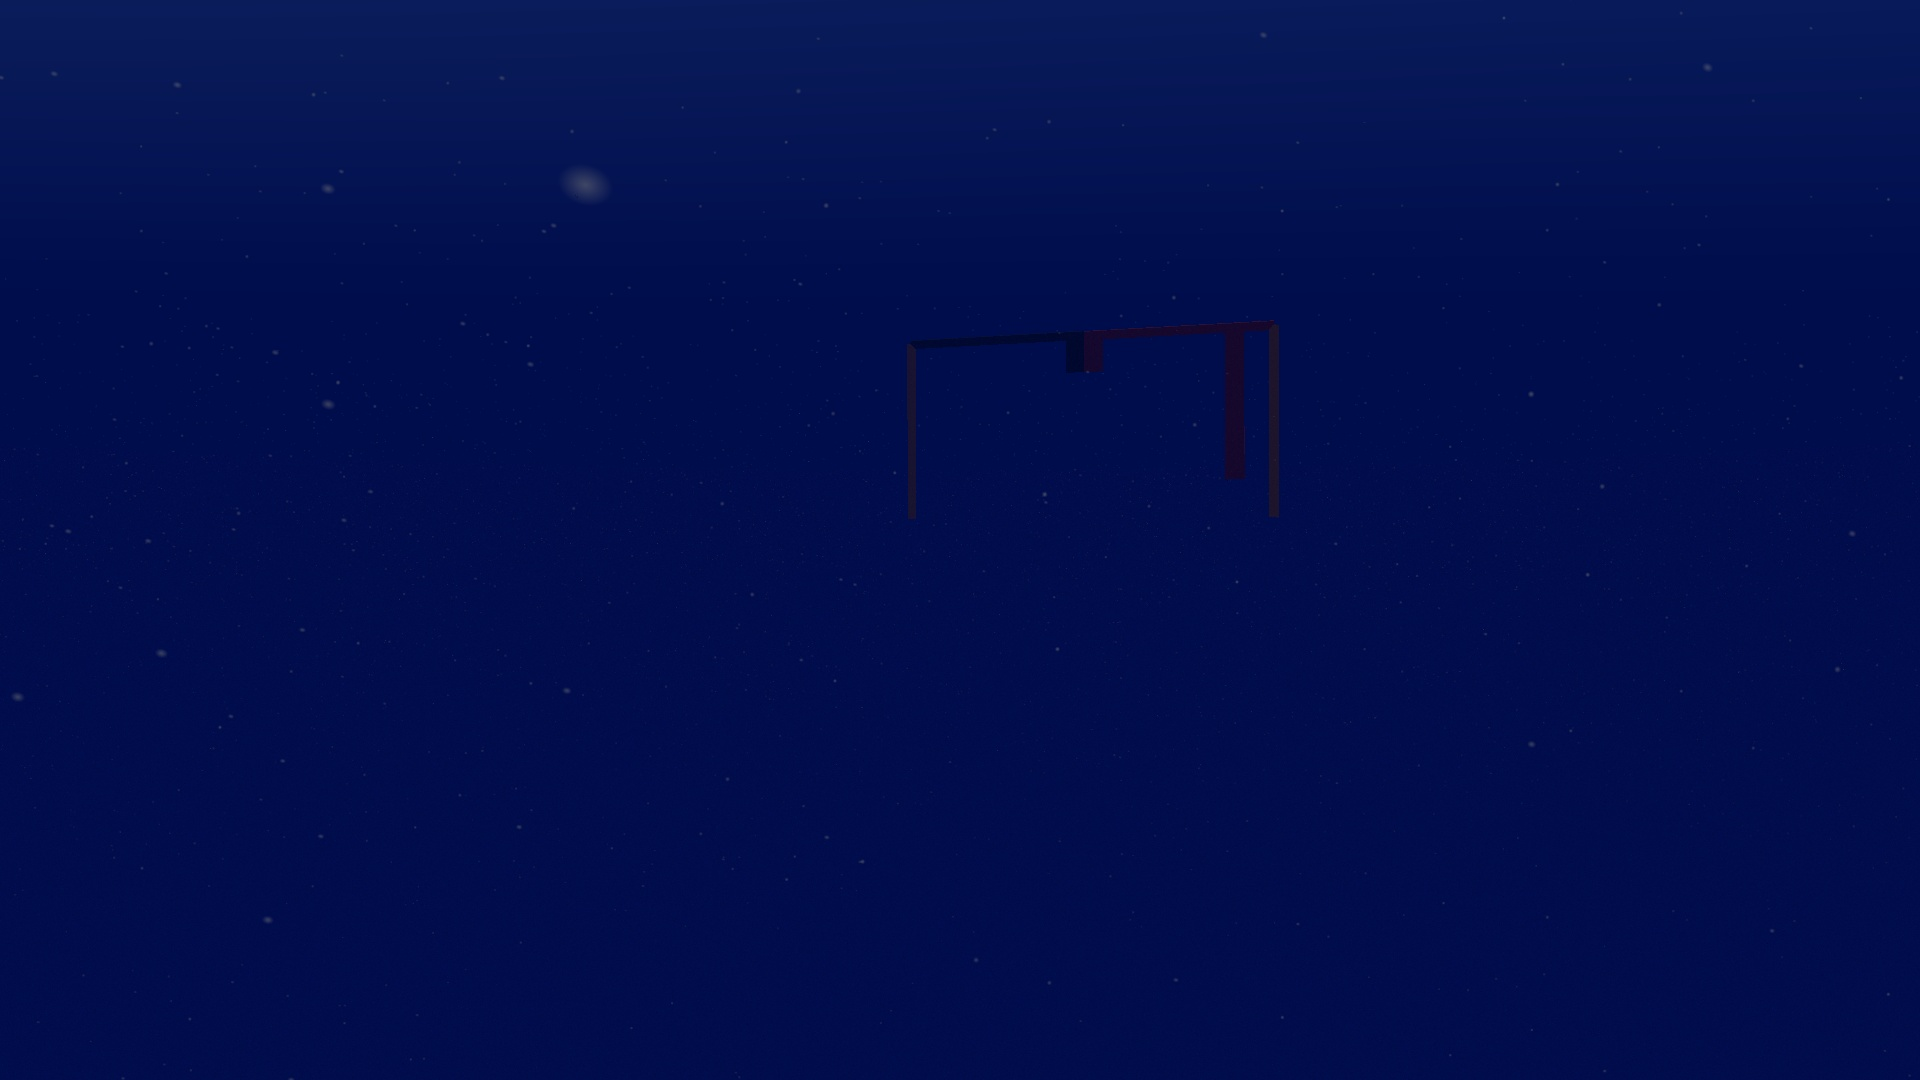Gate: (899, 314, 1284, 535)
